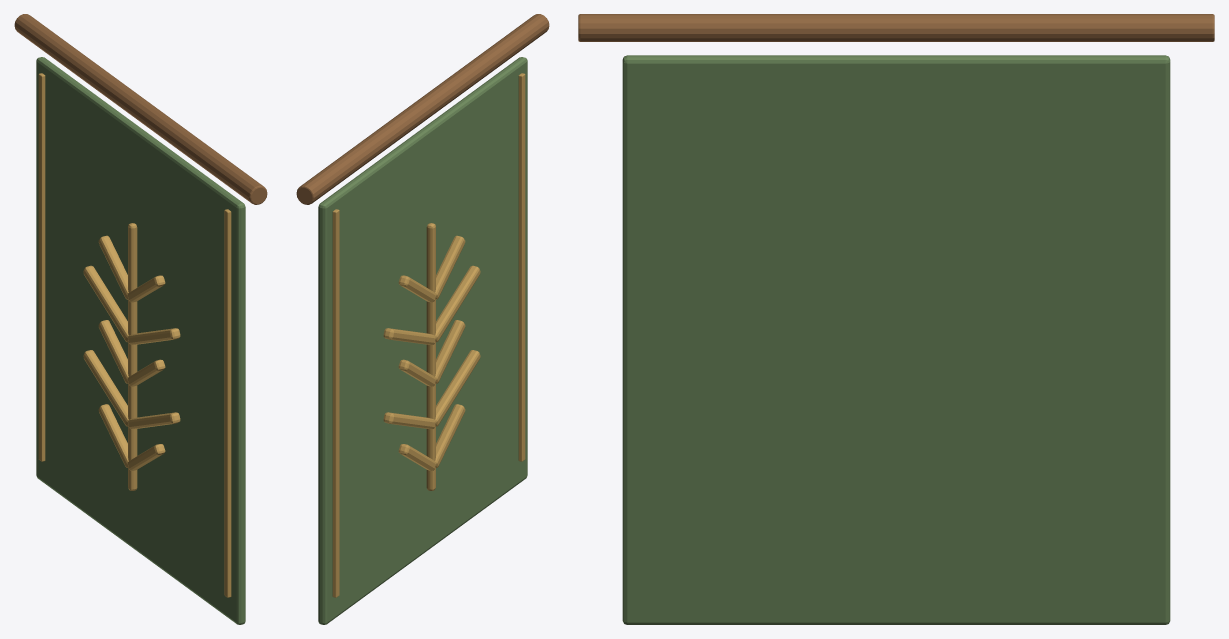
File: SM_HH_Art_Banner.fbx
The picture shows the model from 3 angles, left to right: view 1: azimuth 30°, elevation 25°; view 2: azimuth 150°, elevation 25°; view 3: azimuth 270°, elevation 25°; orthographic projection. The views are drawn at different scales.
Parts seen in each view (by area): view 1: HH_Art_Banner; view 2: HH_Art_Banner; view 3: HH_Art_Banner.
Part boxes in pixels (<box>): HH_Art_Banner: <box>14,14,267,624</box>; HH_Art_Banner: <box>296,14,549,624</box>; HH_Art_Banner: <box>578,14,1214,624</box>.
Bounding box in the file's own units: 1.22 × 0.068 × 1.29.
